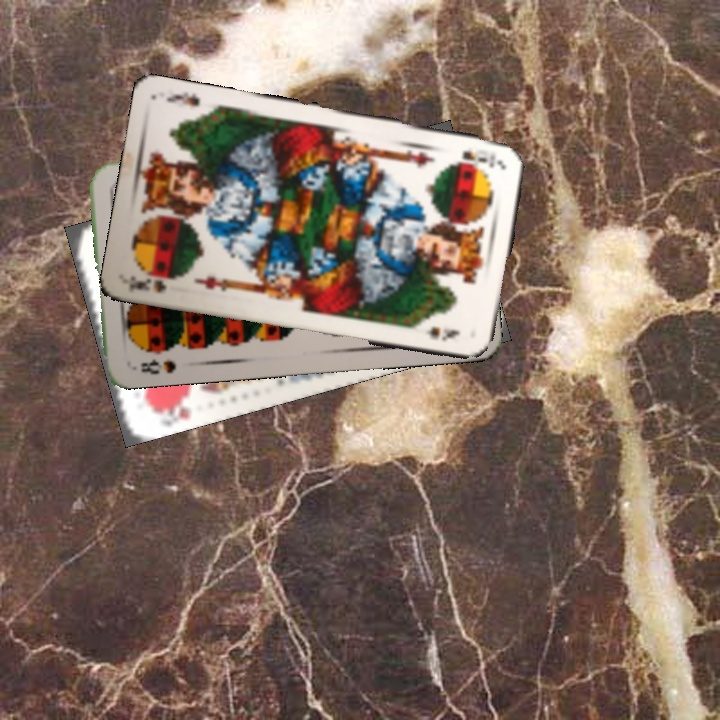HK: (167, 393, 195, 424)
S8: (136, 355, 179, 377)
SK: (124, 269, 179, 295), (459, 146, 501, 169)
